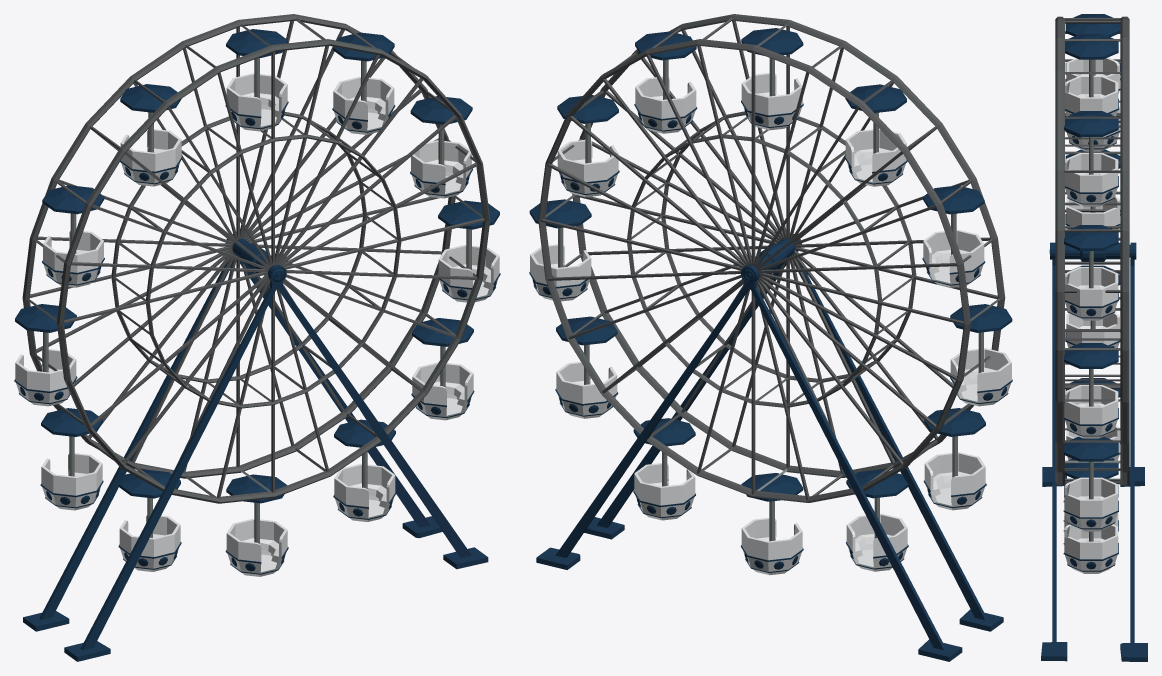
File: londoneye2.glb
3 renders of one model, left to right at view 1: azimuth 30°, elevation 25°; view 2: azimuth 150°, elevation 25°; view 3: azimuth 270°, elevation 25°, orthographic. The views are drawn at different scales.
Visible parts, largest first — view 1: Ferriswheel; view 2: Ferriswheel; view 3: Ferriswheel.
Part boxes in pixels (x1=…): Ferriswheel: x1=14, y1=14, x2=500, y2=661; Ferriswheel: x1=529, y1=14, x2=1012, y2=661; Ferriswheel: x1=1041, y1=14, x2=1147, y2=661.
Size of the model in its own units: 1.01 by 1.13 by 0.2076.
Materials: 1 (1 with a texture image).
